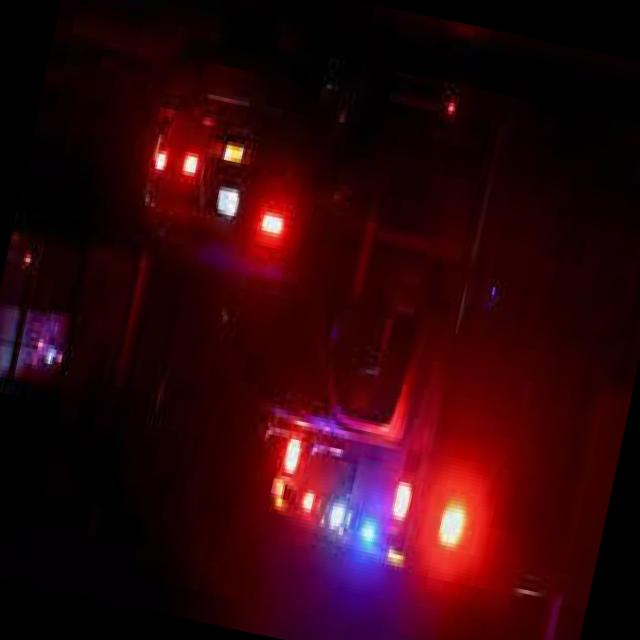ambulance: (41, 15, 640, 640)
